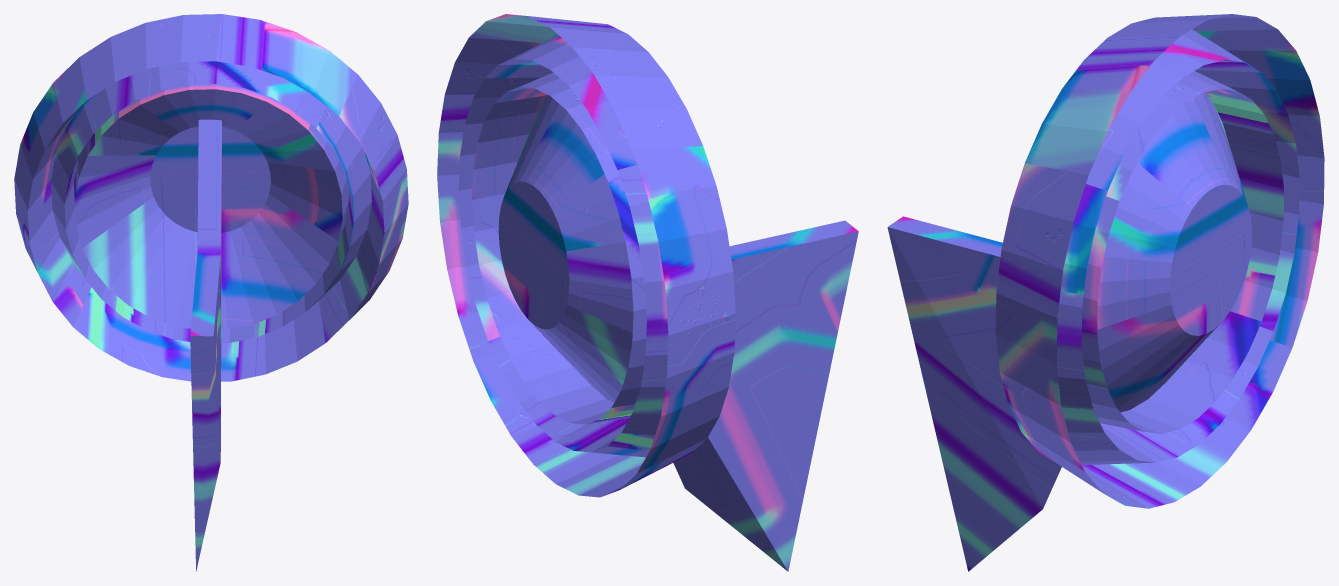
File: radar14.obj
3 views of the same model, side by side, from view 1: azimuth 30°, elevation 25°; view 2: azimuth 150°, elevation 25°; view 3: azimuth 270°, elevation 25° (orthographic). The views are drawn at different scales.
Parts seen in each view (by area): view 1: radar; view 2: radar; view 3: radar.
Part boxes in pixels (x1=…): radar: x1=14, y1=14, x2=408, y2=571; radar: x1=437, y1=14, x2=858, y2=571; radar: x1=887, y1=14, x2=1324, y2=571.
Size of the model in its own units: 0.8968 by 1.3 by 0.8537.
